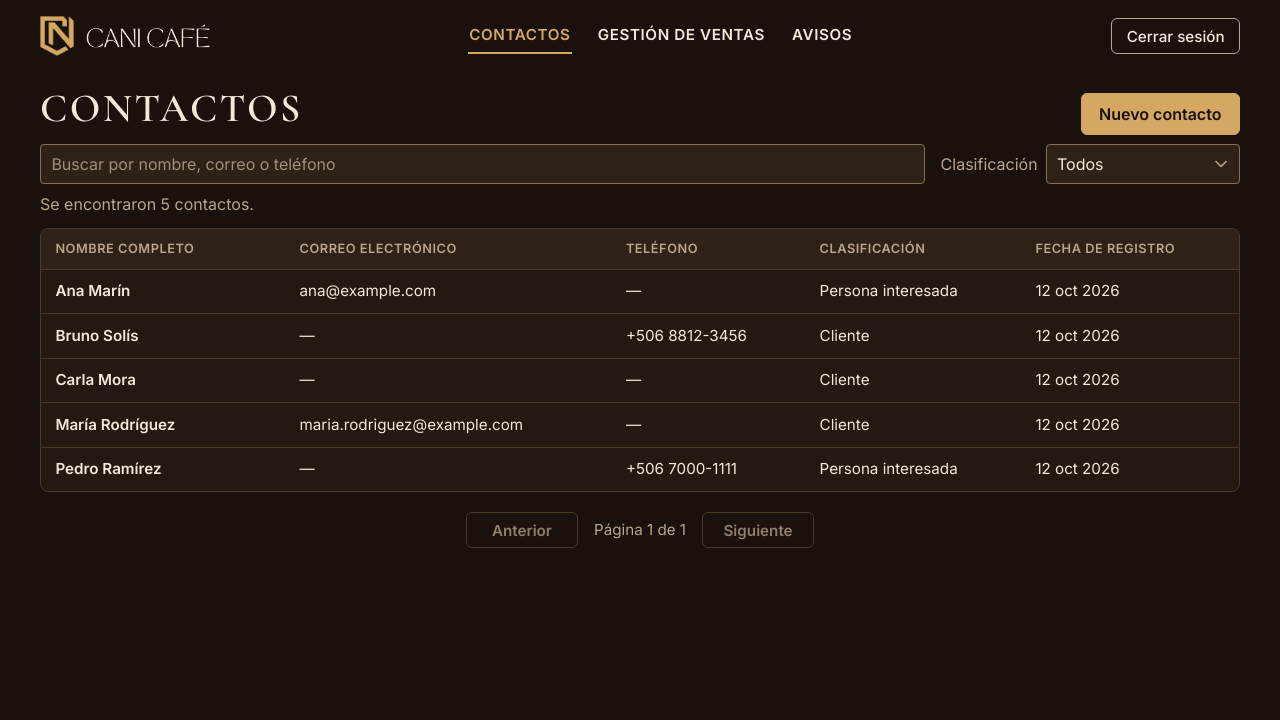
Test: HU-205 Buscar y filtrar contactos › criterio 1 y 2: la tabla cambia mientras se escribe; "mar" muestra "María Rodríguez"
Expected: the table is shown, [41,229,1239,492]
In the search field labelled "Buscar por nombre, correo o teléfono": (482, 164) [40,144,925,184], type "m"
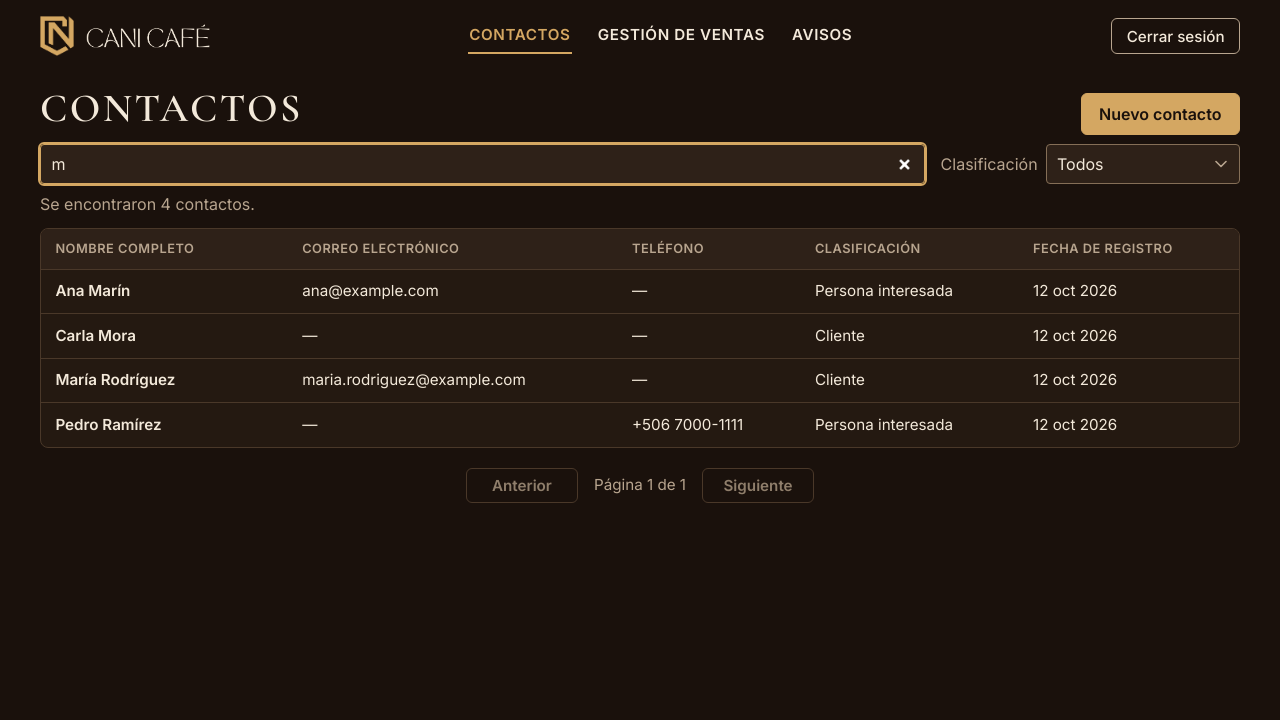
Expected: the text "Se encontraron 4 contactos." is shown, [40,194,255,214]
In the search field named "Buscar por nombre, correo o teléfono": (482, 164) [40,144,925,184], type "ar"
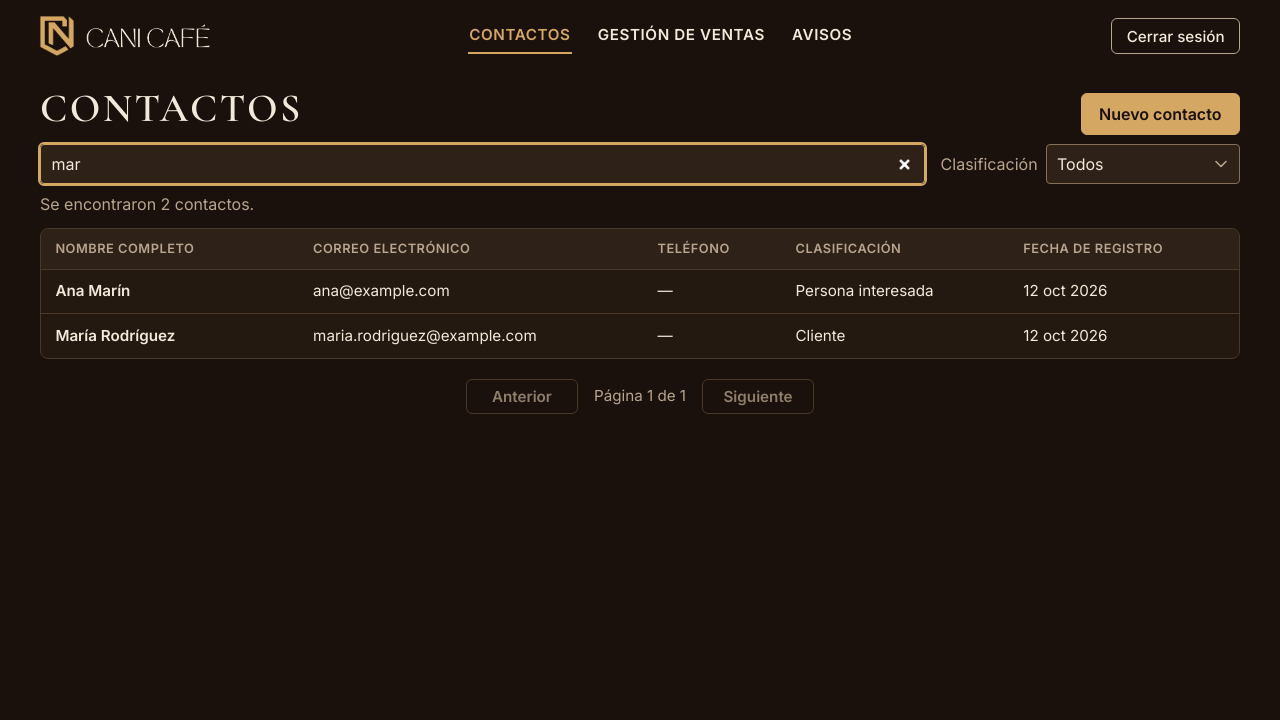
In the search field named "Buscar por nombre, correo o teléfono": (482, 164) [40,144,925,184], type "ia"
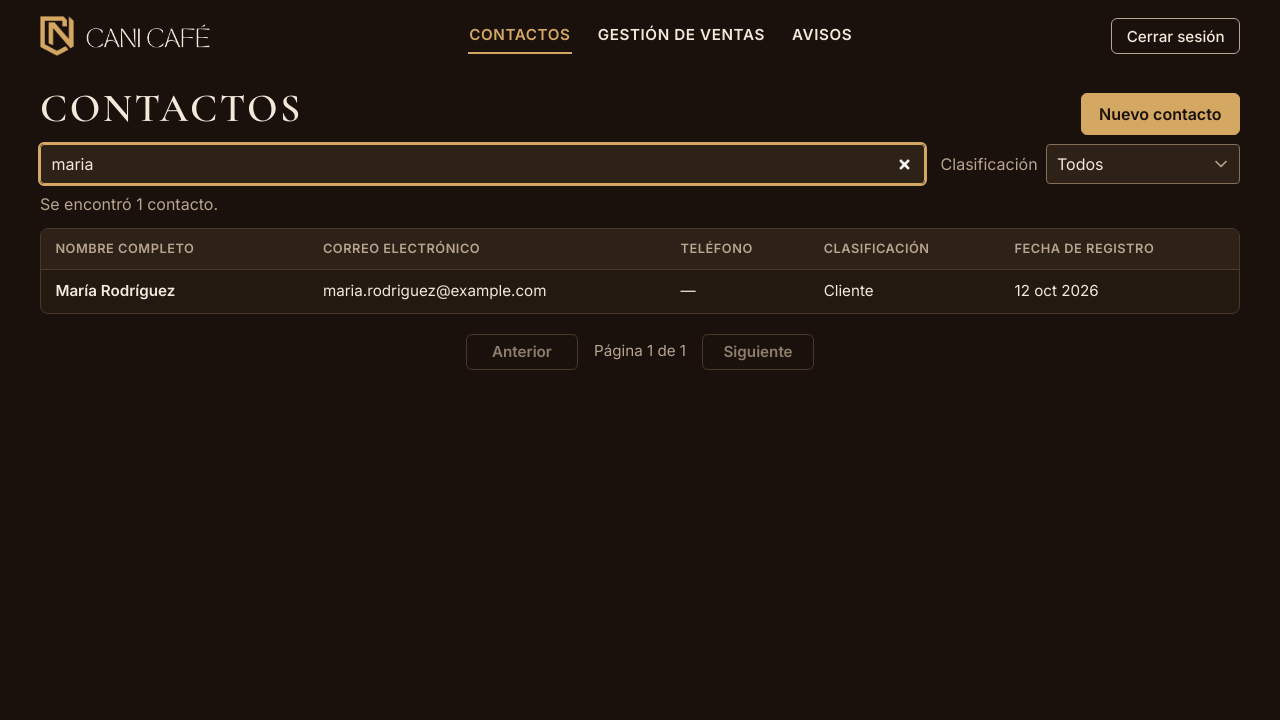
Expected: the message reads "Se encontró 1 contacto.", [40,194,218,214]
